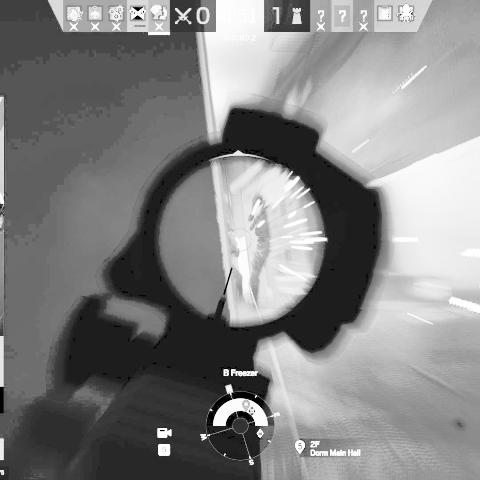Character: (246, 190, 271, 308), (225, 217, 244, 304)
Head: (251, 192, 267, 209)
